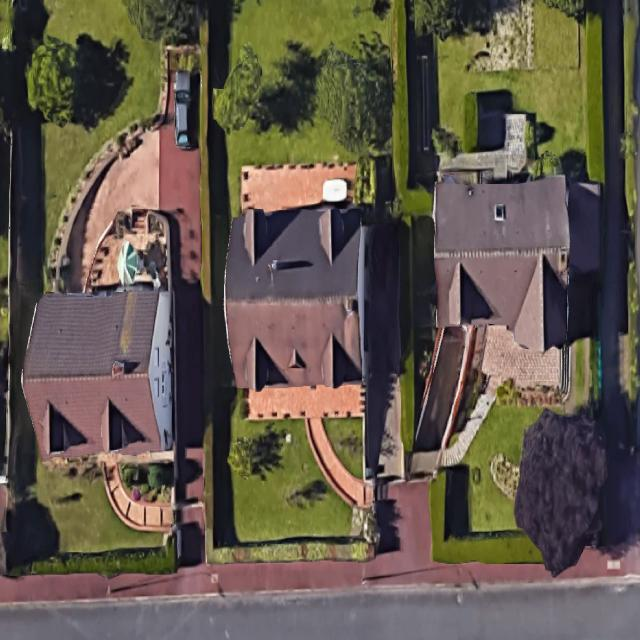maison: (432, 174, 599, 351), (20, 290, 174, 460), (224, 204, 363, 389)
